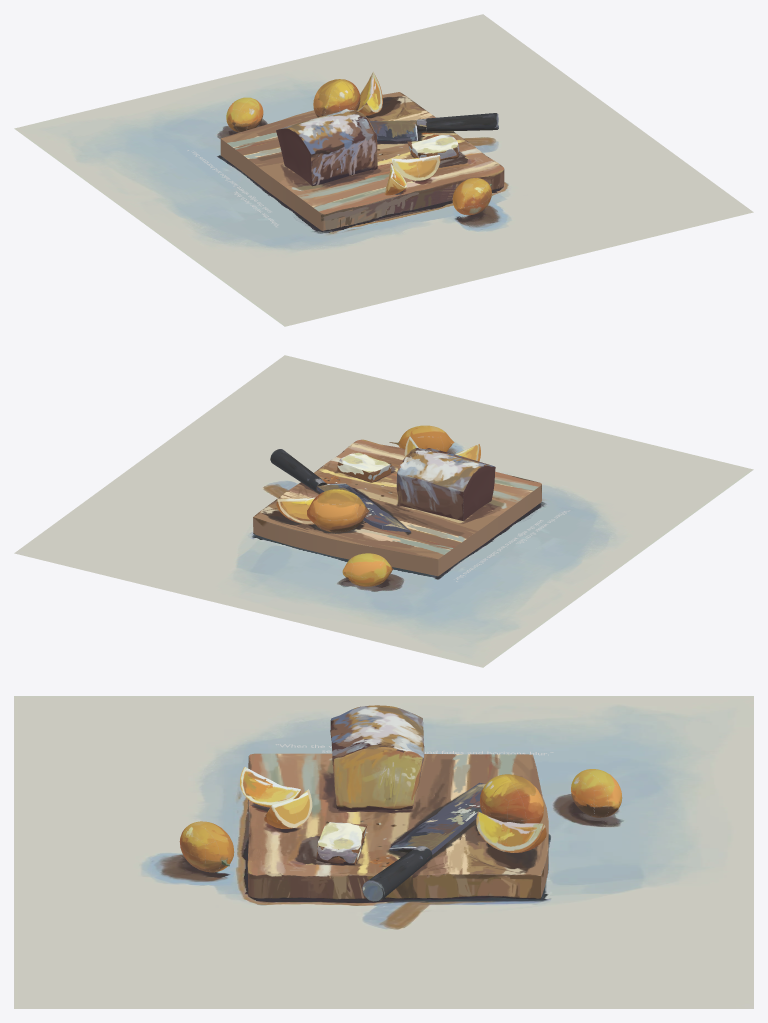
Rendered from still_life_based_on_heathers_artwork-transformed.glb.
3 views of the same model, one above another, from view 1: azimuth 30°, elevation 25°; view 2: azimuth 150°, elevation 25°; view 3: azimuth 270°, elevation 25° (orthographic). The views are drawn at different scales.
Visible parts, largest first — view 1: Plane_6, Cube_0, Cube.001_1, Cube.004_3, Cylinder.001_5, Sphere.002_8, Sphere.003_9, Cube.007_4; view 2: Plane_6, Cube_0, Cube.001_1, Cube.004_3, Cylinder.001_5, Sphere.003_9, Cube.007_4, Cube.003_2; view 3: Plane_6, Cube_0, Cube.001_1, Cube.004_3, Cylinder.001_5, Sphere.003_9, Sphere.001_7, Cube.007_4, Sphere.002_8, Cube.003_2.
Boxes of the visible parts, x1=… form: Plane_6: x1=14, y1=14, x2=753, y2=326; Cube_0: x1=220, y1=92, x2=504, y2=231; Cube.001_1: x1=276, y1=108, x2=377, y2=186; Cube.004_3: x1=226, y1=79, x2=491, y2=215; Cylinder.001_5: x1=369, y1=113, x2=498, y2=141; Sphere.002_8: x1=391, y1=155, x2=440, y2=180; Sphere.003_9: x1=357, y1=72, x2=382, y2=115; Cube.007_4: x1=409, y1=135, x2=459, y2=158; Plane_6: x1=14, y1=355, x2=753, y2=667; Cube_0: x1=253, y1=439, x2=541, y2=576; Cube.001_1: x1=396, y1=448, x2=495, y2=520; Cube.004_3: x1=307, y1=425, x2=454, y2=586; Cylinder.001_5: x1=270, y1=449, x2=410, y2=532; Sphere.003_9: x1=276, y1=497, x2=315, y2=524; Cube.007_4: x1=337, y1=453, x2=391, y2=480; Cube.003_2: x1=337, y1=452, x2=391, y2=482; Plane_6: x1=14, y1=696, x2=753, y2=1008; Cube_0: x1=247, y1=753, x2=548, y2=899; Cube.001_1: x1=330, y1=705, x2=424, y2=810; Cube.004_3: x1=179, y1=769, x2=622, y2=872; Cylinder.001_5: x1=362, y1=782, x2=485, y2=901; Sphere.003_9: x1=476, y1=811, x2=546, y2=852; Sphere.001_7: x1=240, y1=767, x2=300, y2=807; Cube.007_4: x1=317, y1=822, x2=366, y2=863; Sphere.002_8: x1=264, y1=789, x2=312, y2=828; Cube.003_2: x1=316, y1=821, x2=367, y2=864.
Size of the model in its own units: 4.61 by 0.6255 by 4.61.
Materials: 3 (3 with a texture image).
